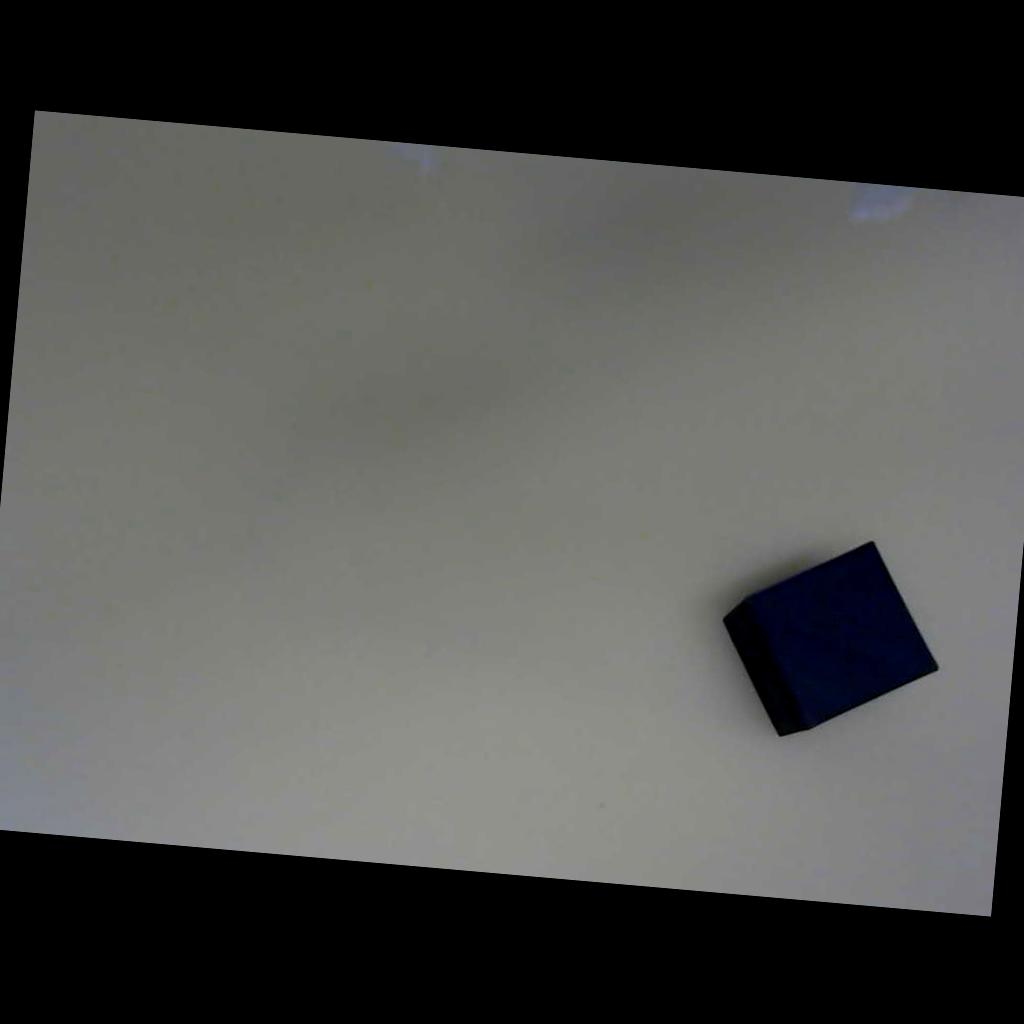square: (687, 502, 974, 773)
